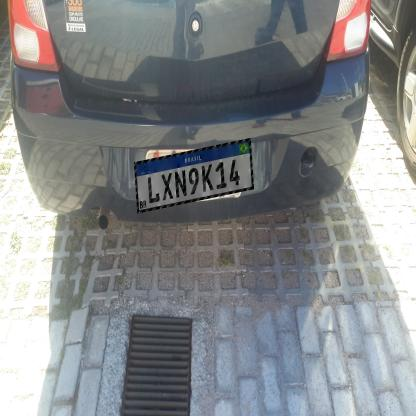PlacaM: (134, 138, 254, 213)
